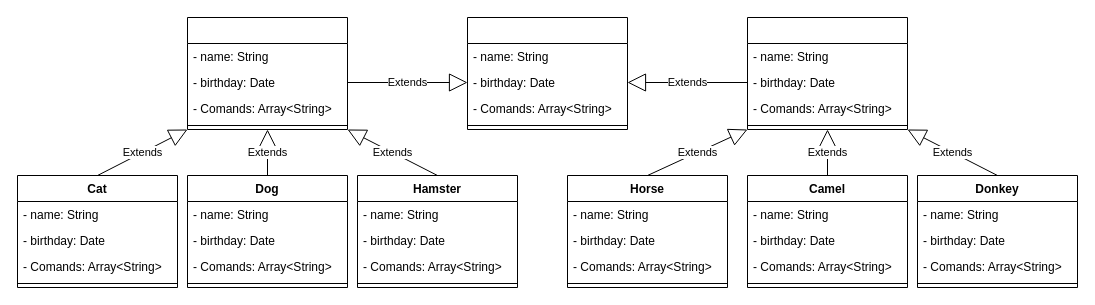
The diagram is 1095 pixels wide and 305 high, and some of its shapes have lost their labels. The shapes that lost their labels are listed below. From the top down, each one's box as (x1, y1, x2, y2) in pixels, then its label:
(186, 16, 348, 130): Pet
(466, 16, 628, 130): Animal
(746, 16, 908, 130): PackAnimal
